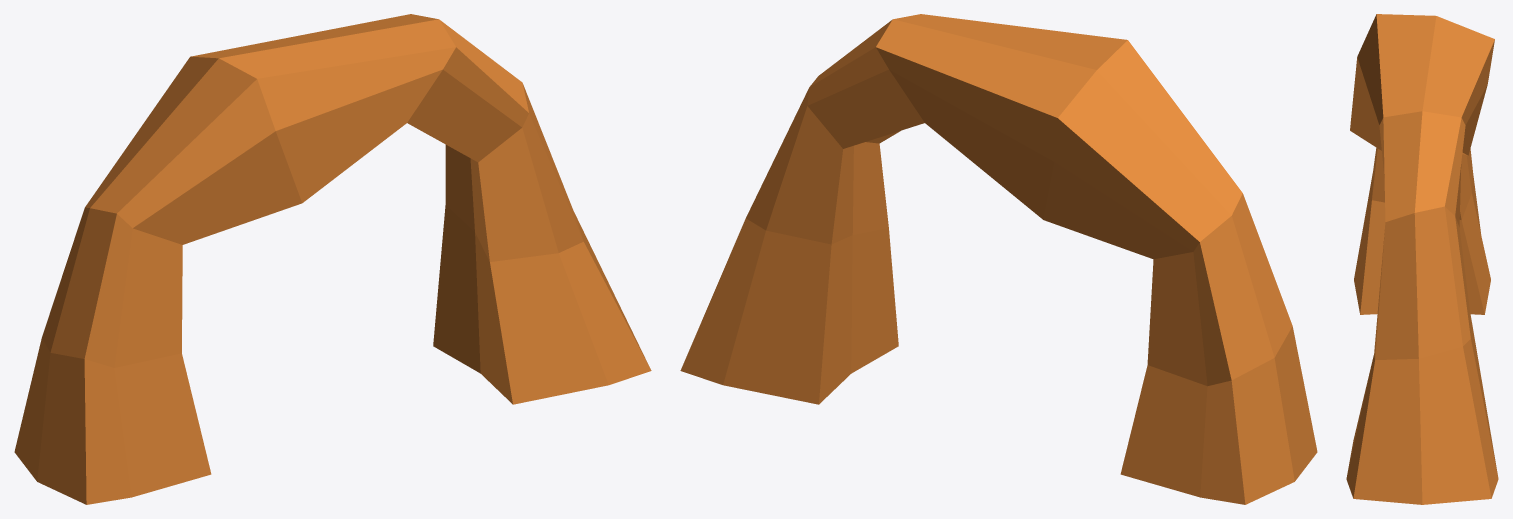
The model's file is rock_arch.glb.
3 renders of one model, left to right at view 1: azimuth 30°, elevation 25°; view 2: azimuth 150°, elevation 25°; view 3: azimuth 270°, elevation 25°, orthographic. The views are drawn at different scales.
Parts seen in each view (by area): view 1: rockarch-col; view 2: rockarch-col; view 3: rockarch-col.
Part boxes in pixels (left/top/right/bottom): rockarch-col: left=14, top=14, right=651, bottom=504; rockarch-col: left=680, top=14, right=1317, bottom=504; rockarch-col: left=1346, top=14, right=1498, bottom=504.
Size of the model in its own units: 17.1 by 10.41 by 4.43.
